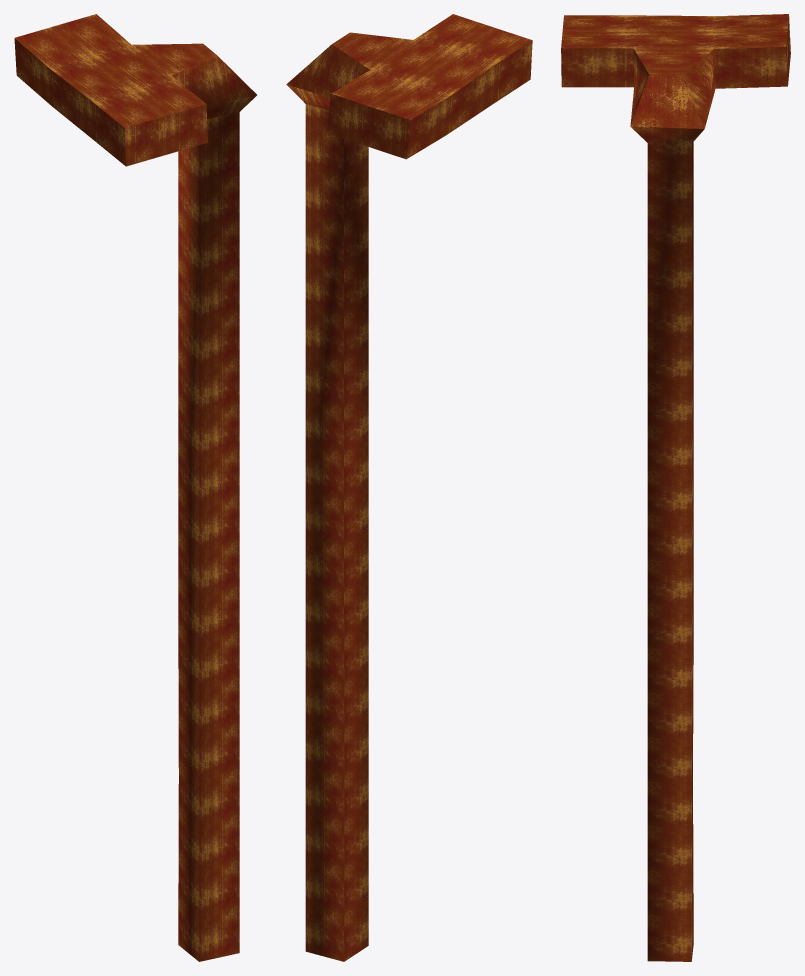
The model's file is Pole.FBX.
3 views of the same model, side by side, from view 1: azimuth 30°, elevation 25°; view 2: azimuth 150°, elevation 25°; view 3: azimuth 270°, elevation 25° (orthographic). The views are drawn at different scales.
Visible parts, largest first — view 1: Box001; view 2: Box001; view 3: Box001.
Part boxes in pixels (x1,y1,x2,y2): Box001: (14, 14, 256, 961); Box001: (286, 14, 532, 961); Box001: (561, 14, 790, 961).
Size of the model in its own units: 21.02 by 106 by 24.99.
